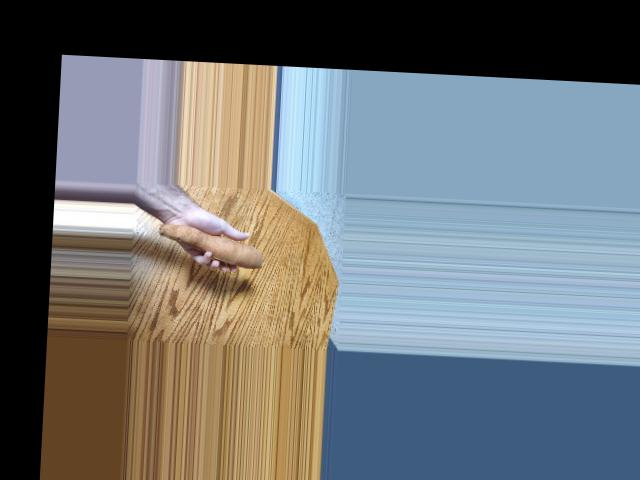sweet_potato: (146, 222, 265, 273)
